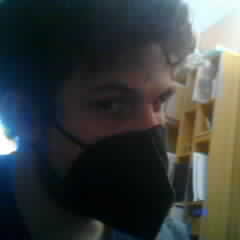with_mask: (50, 43, 183, 232)
